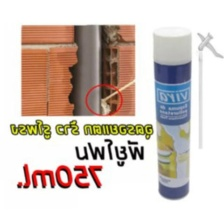aerosol_cans: (149, 19, 197, 203)
